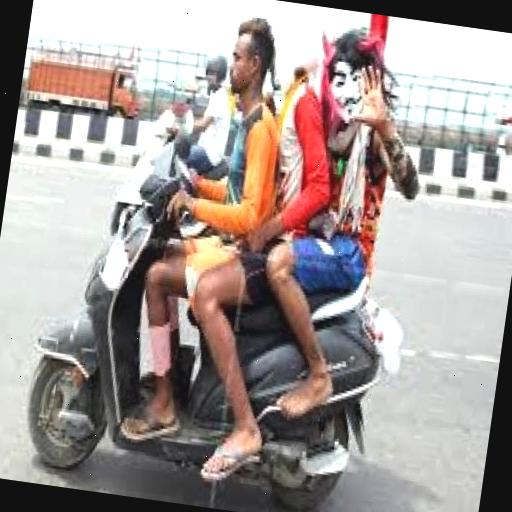no helmet: (206, 10, 310, 149)
triple riding: (16, 0, 412, 505)
